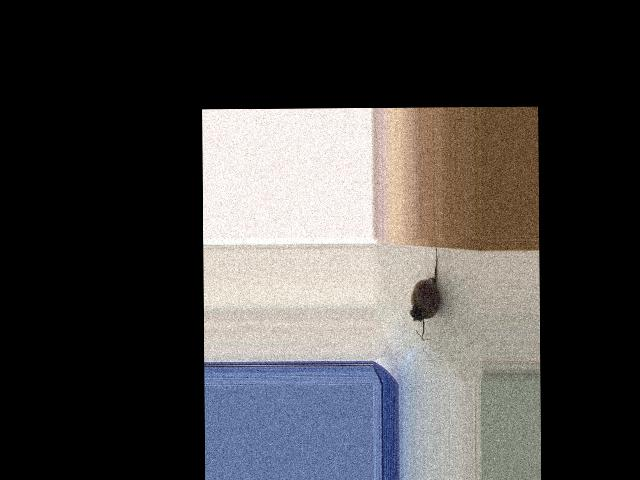beet: (410, 243, 440, 340)
